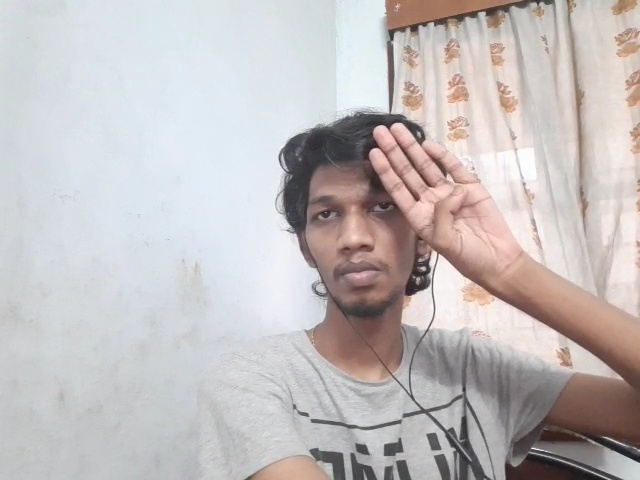Hello: (368, 121, 522, 280)
